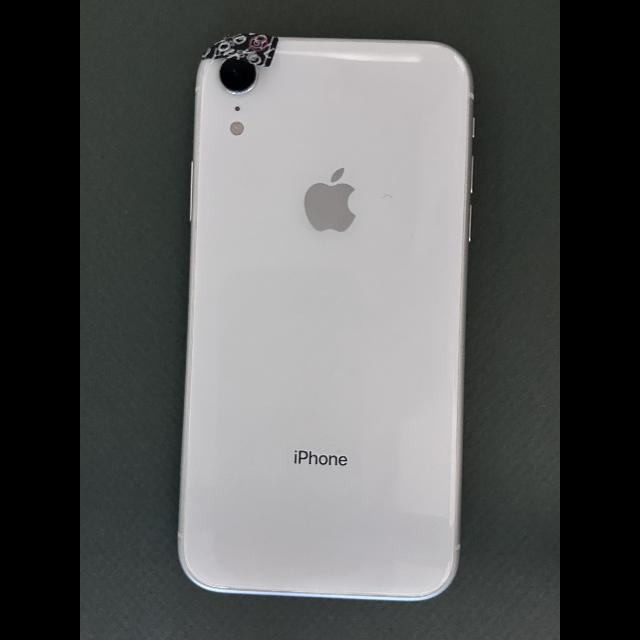lens: (218, 58, 258, 94)
phone: (177, 34, 474, 602)
sticker: (200, 32, 279, 68)
